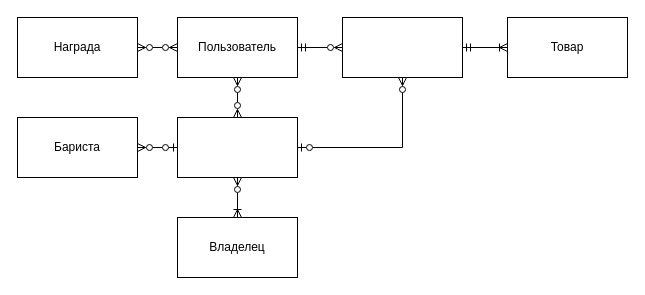
This 645x295 diagram has some shape labels left out. The shapes that lost their labels are listed below. From the top down, each one's centre as x and y in pixels, then its label:
At (402,47): "Чек (факт оплаты)".
At (237,147): "Кофейня".
